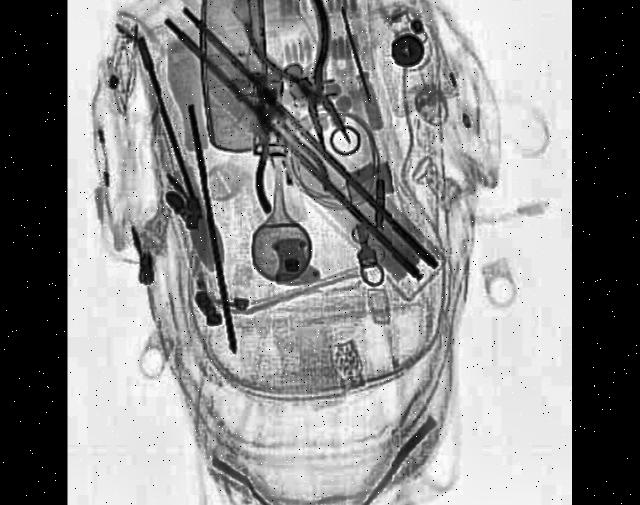Pliers: (238, 0, 367, 181), (220, 45, 330, 226)
